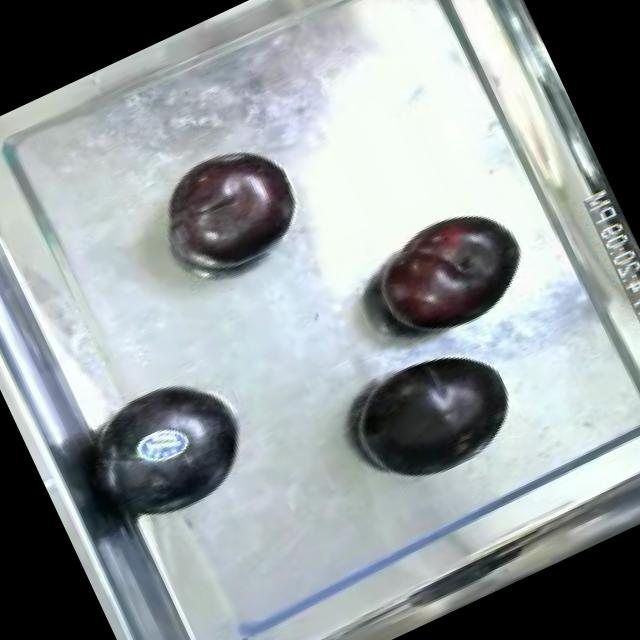Fruit: (61, 350, 275, 553), (330, 324, 534, 506), (352, 192, 543, 360), (138, 126, 318, 296)
